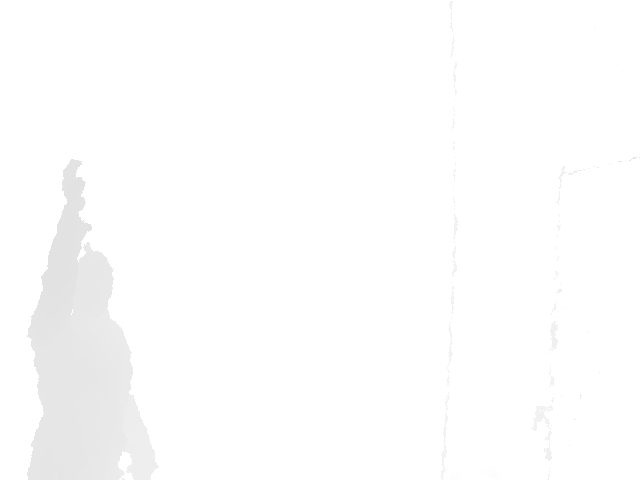hand: (61, 158, 87, 212)
head: (67, 243, 115, 314)
person: (25, 158, 160, 480)
